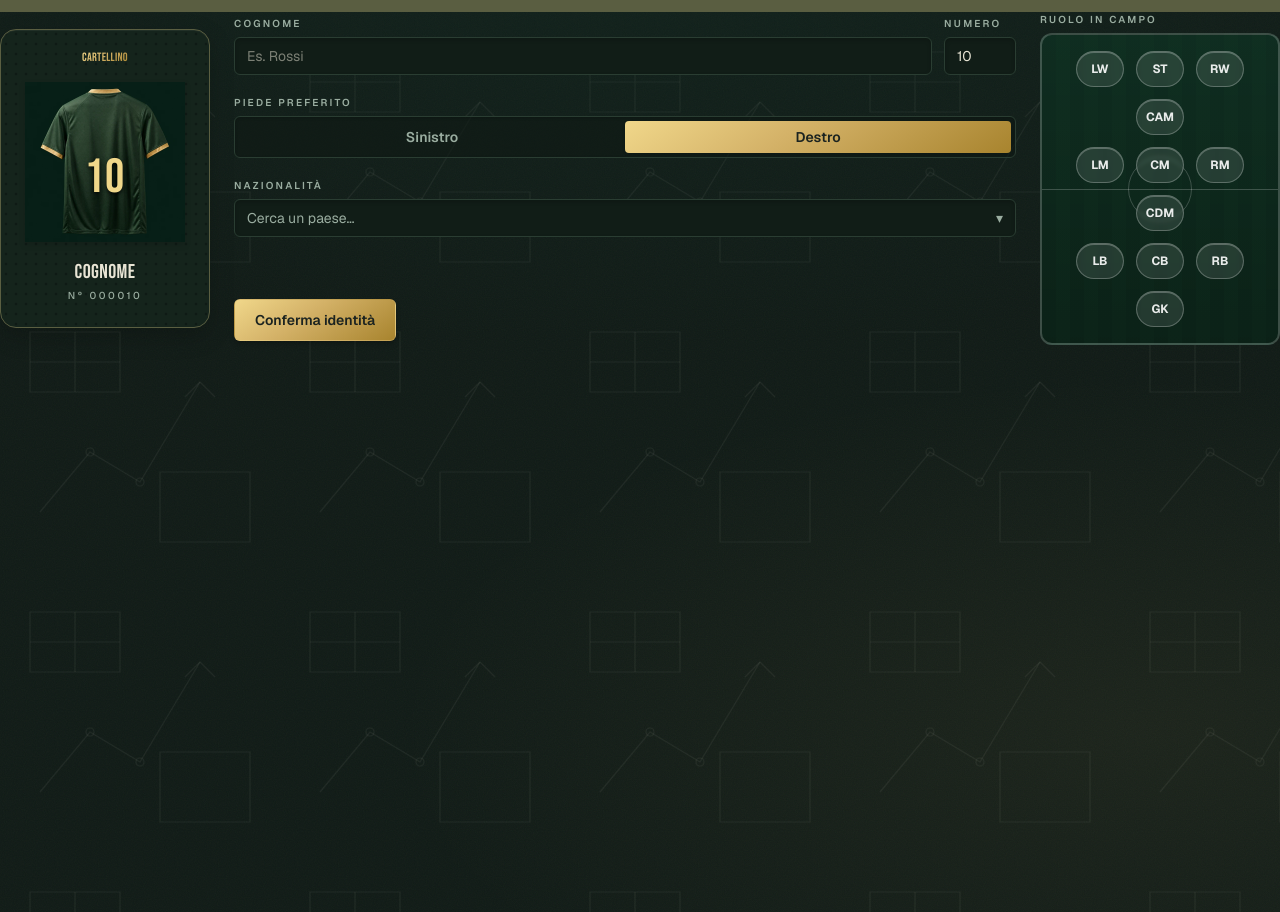
Scenario: IdentityForm › dovrebbe segnalare un numero di maglia fuori dal range 1-99
This screenshot has width=1280, height=912.
Replace the text in the number field labelled "Numero" with "150" at (980, 56), box x1=944 y1=37 x2=1016 y2=75
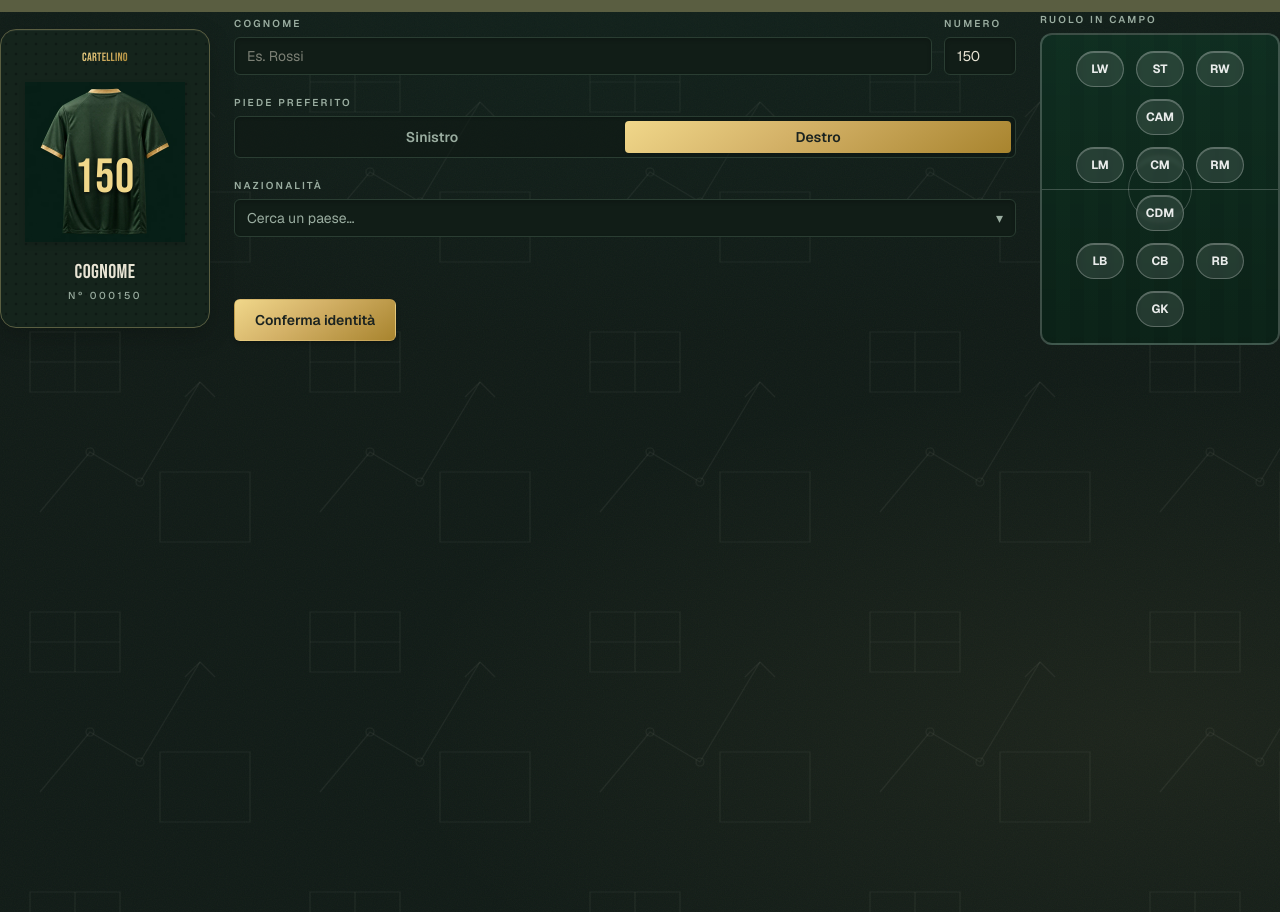
Click the button "Conferma identità" at (315, 320), box x1=234 y1=299 x2=396 y2=341
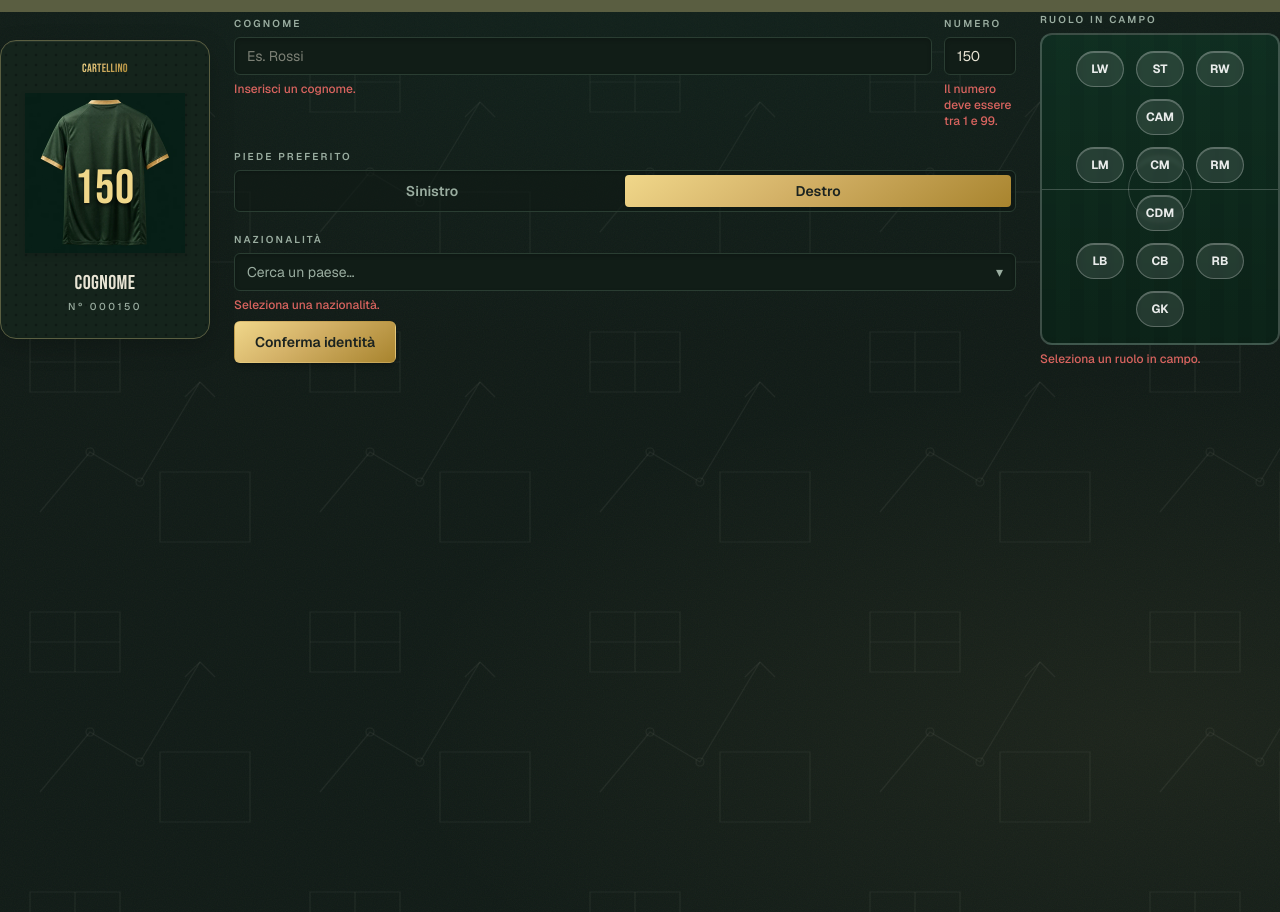
expect the text "Il numero deve essere tra 1 e 99." is shown: met, box x1=944 y1=81 x2=1016 y2=129
